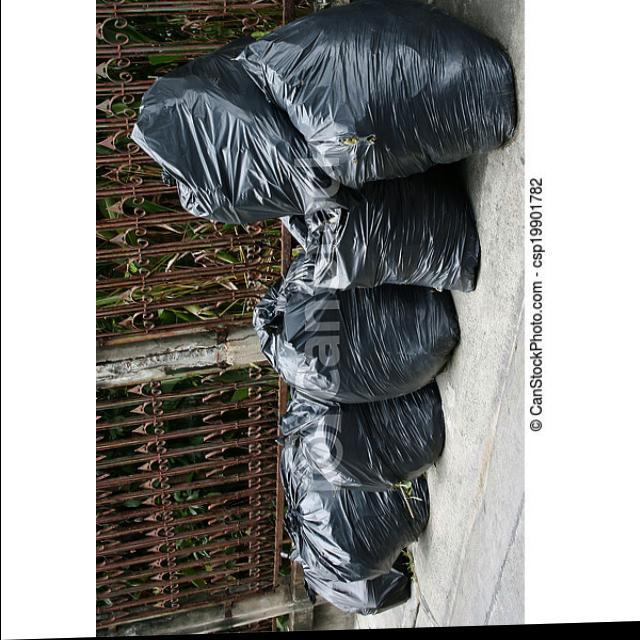Single-layer Plastic: (240, 0, 518, 187), (131, 40, 338, 223), (254, 271, 460, 402), (305, 168, 479, 291), (282, 383, 445, 489), (286, 476, 429, 581)
